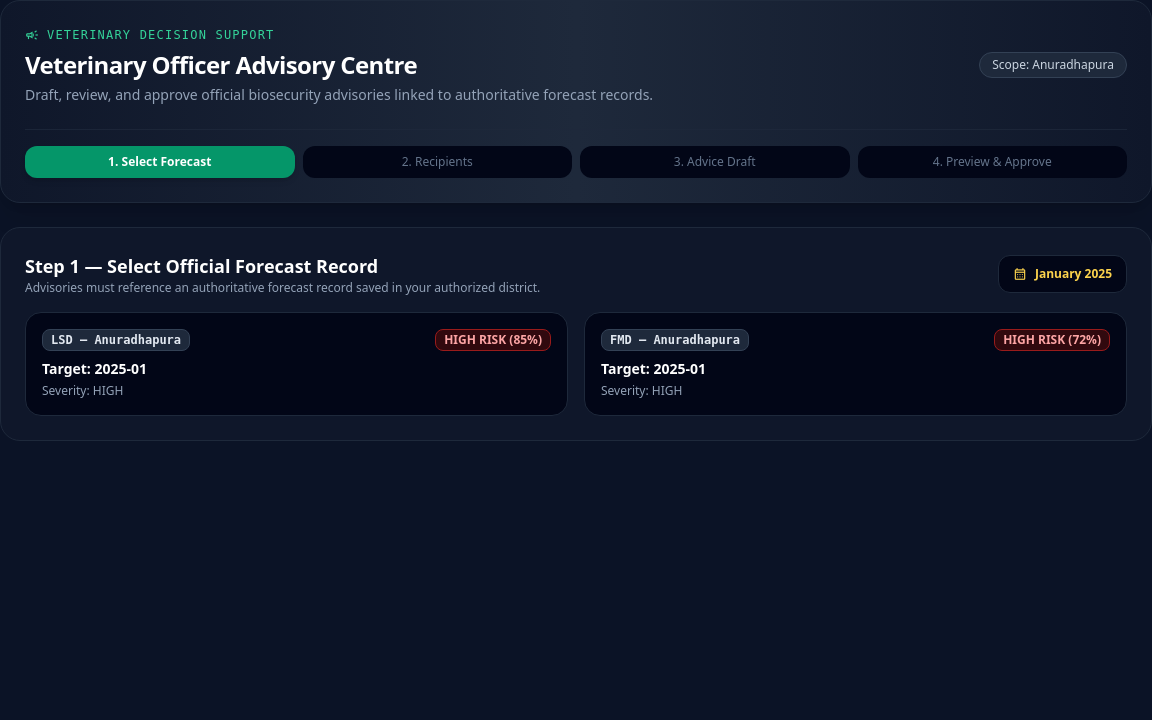
VeterinaryAdvisoryCentre Component › Step 1 — Forecast Selection & Reset › clears recipient selection, draft, and preview state when selecting a different forecast
Step 1. Click the text "LSD — Anuradhapura" → (116, 340), box [42, 329, 190, 351]
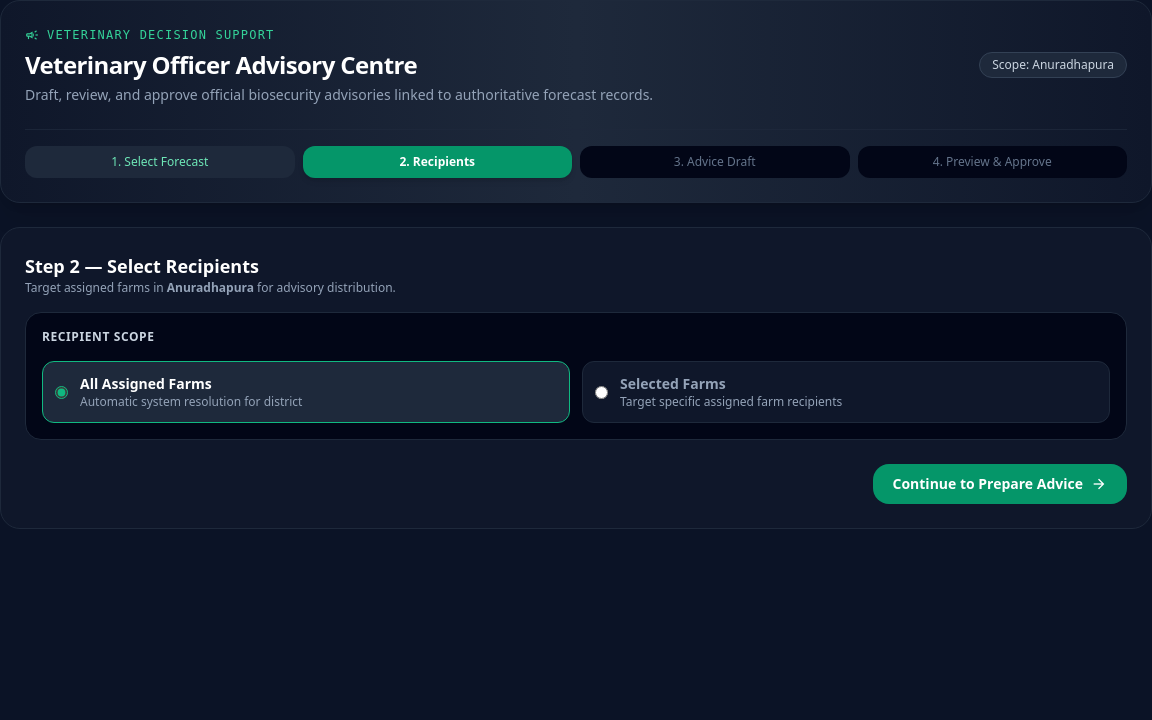
Step 2. Click the radio button labelled "Selected Farms Target specific assigned farm recipients" → (602, 392), box [595, 386, 608, 398]
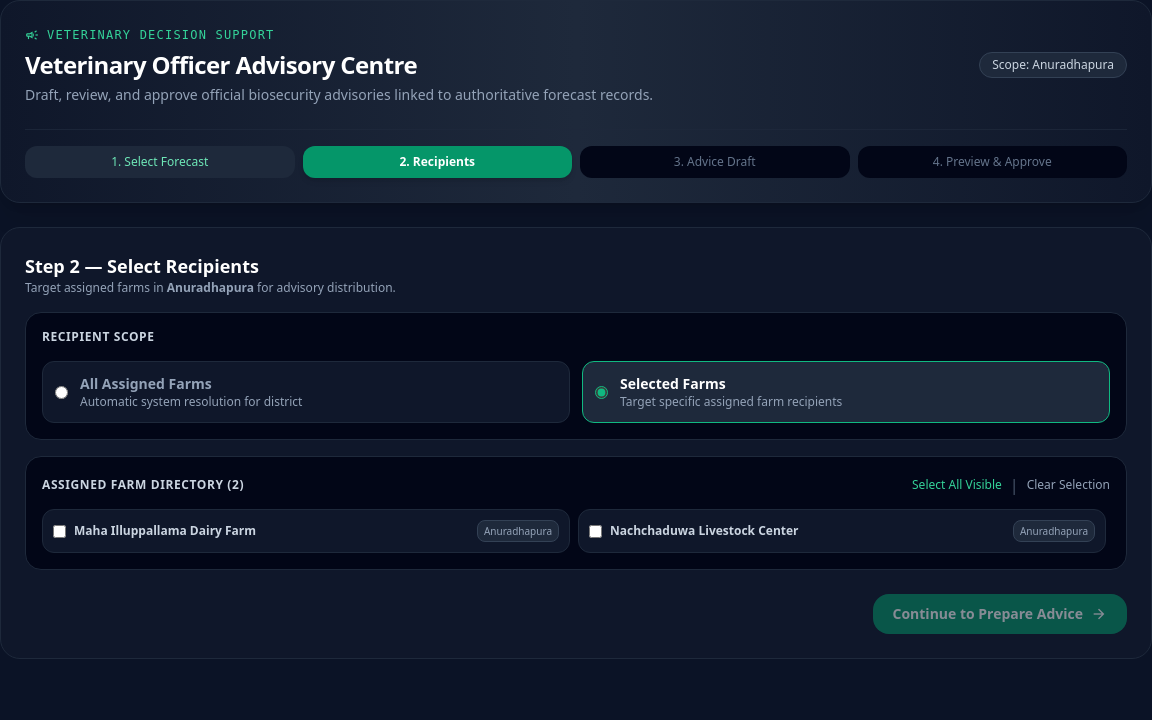
Note: Go back to Step 1 and select another forecast
Step 3. Click the button "1. Select Forecast" → (160, 162), box [25, 146, 294, 178]
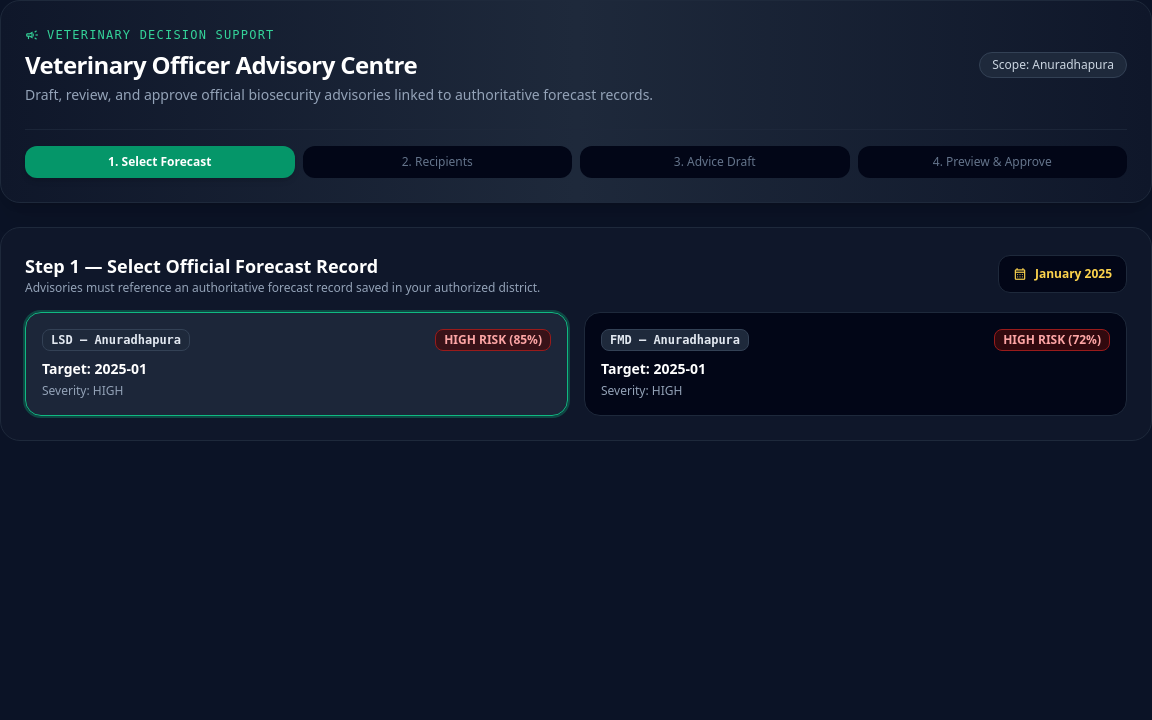
Step 4. Click the text "FMD — Anuradhapura" → (675, 340), box [601, 329, 749, 351]
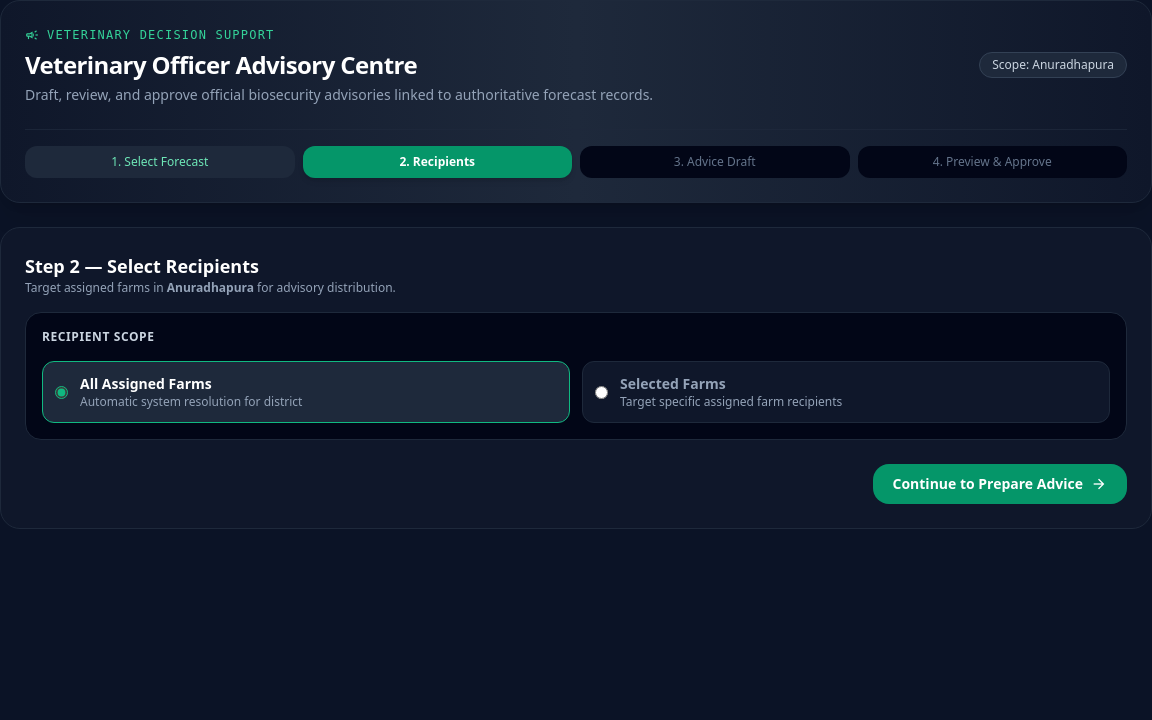
Result: the radio button labelled "All Assigned Farms Automatic system resolution for district" is checked at [55, 386, 68, 398]
